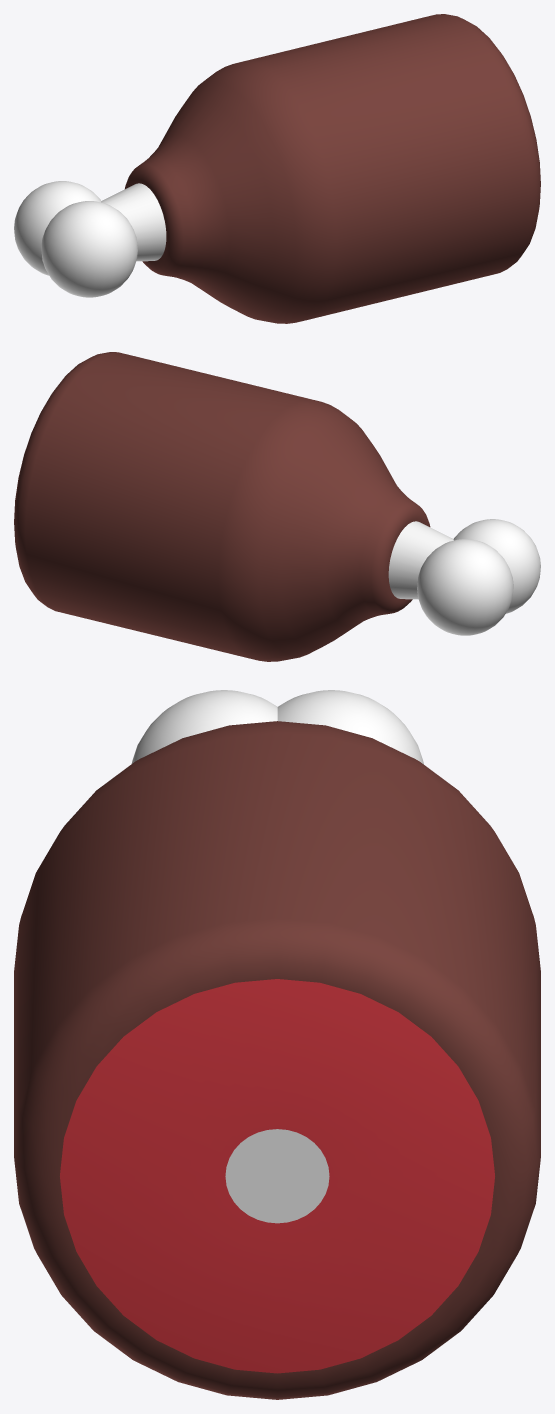
File: Meat.fbx
3 renders of one model, top to bottom at view 1: azimuth 30°, elevation 25°; view 2: azimuth 150°, elevation 25°; view 3: azimuth 270°, elevation 25°, orthographic. The views are drawn at different scales.
Parts seen in each view (by area): view 1: Meat; view 2: Meat; view 3: Meat.
Boxes of the visible parts, box(x1,y1,x2,y2) form: Meat: box(14, 14, 540, 323); Meat: box(14, 352, 540, 661); Meat: box(14, 690, 540, 1399).
Bounding box in the file's own units: 584 × 302 × 302.
